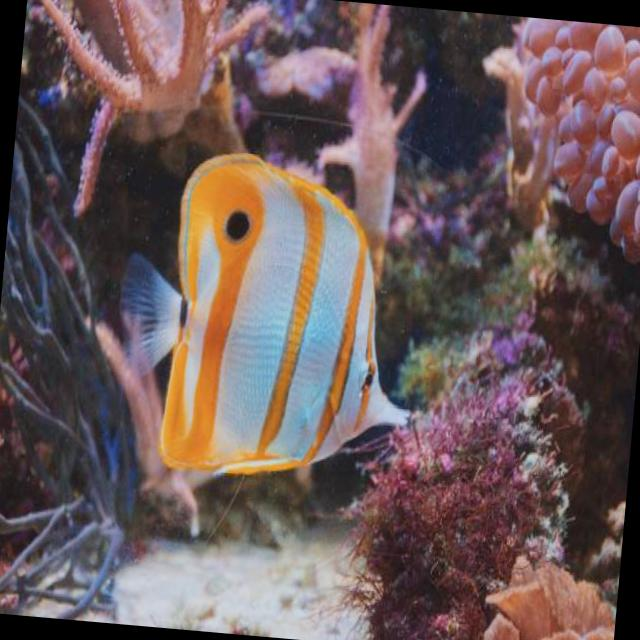ButterflyFish: (109, 141, 432, 486)
